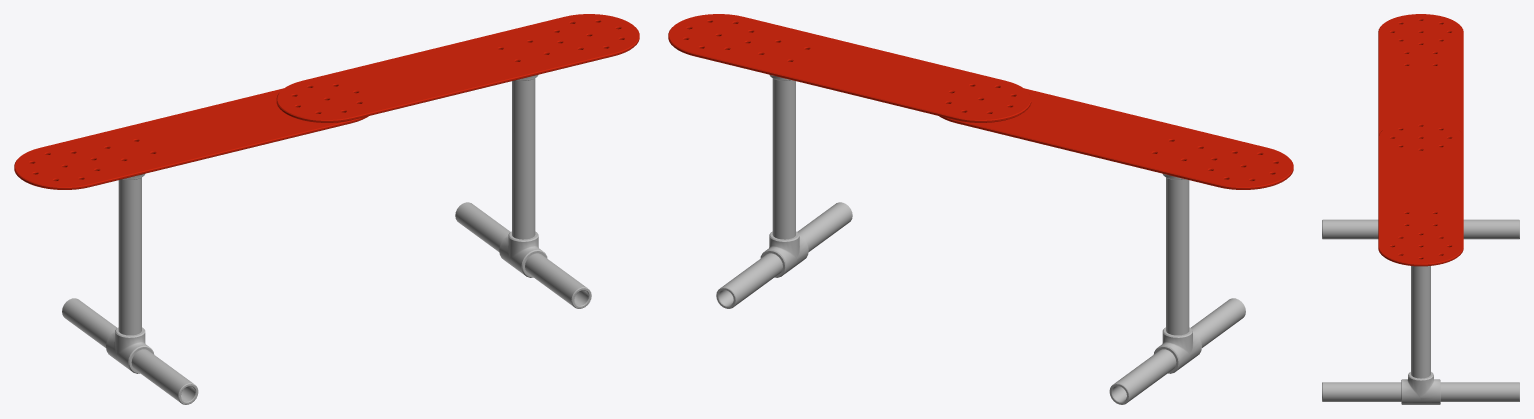
Rendered from path.dae.
3 renders of one model, left to right at view 1: azimuth 30°, elevation 25°; view 2: azimuth 150°, elevation 25°; view 3: azimuth 270°, elevation 25°, orthographic. The views are drawn at different scales.
Parts seen in each view (by area): view 1: path_orange, path_frame; view 2: path_orange, path_frame; view 3: path_orange, path_frame.
Boxes of the visible parts, x1,y1,x2,y2 form: path_orange: (14,14,639,189); path_frame: (62,74,591,404); path_orange: (668,14,1293,189); path_frame: (716,74,1245,404); path_orange: (1378,14,1463,266); path_frame: (1322,219,1519,404).
Size of the model in its own units: 1.07 by 0.3526 by 0.3638.
